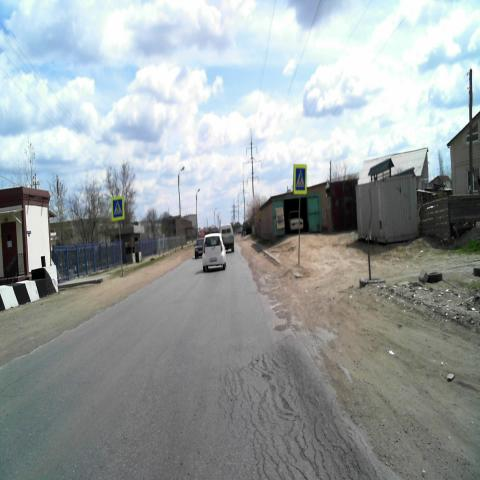5_19_1: (293, 165, 306, 194)
